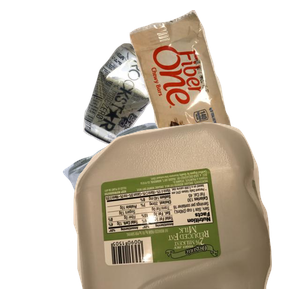glass: (60, 120, 300, 300)
metal: (81, 41, 234, 178)
plastic: (71, 120, 300, 300)
trash: (127, 10, 300, 190)
